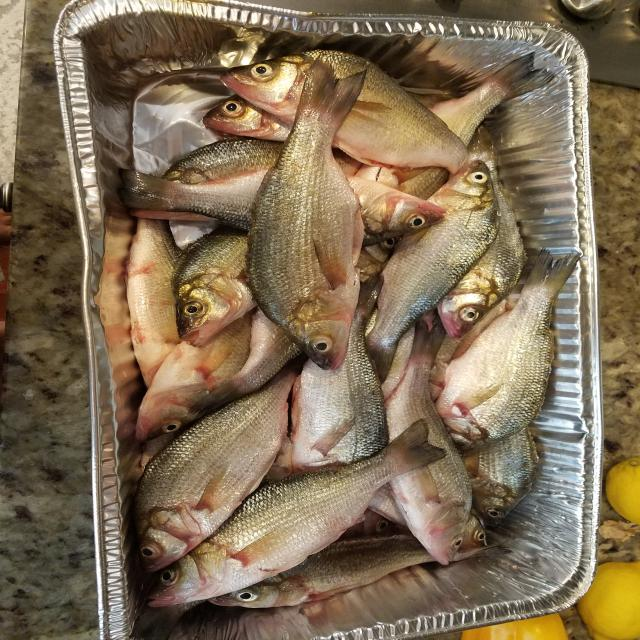Perch - White: (121, 35, 567, 614)
